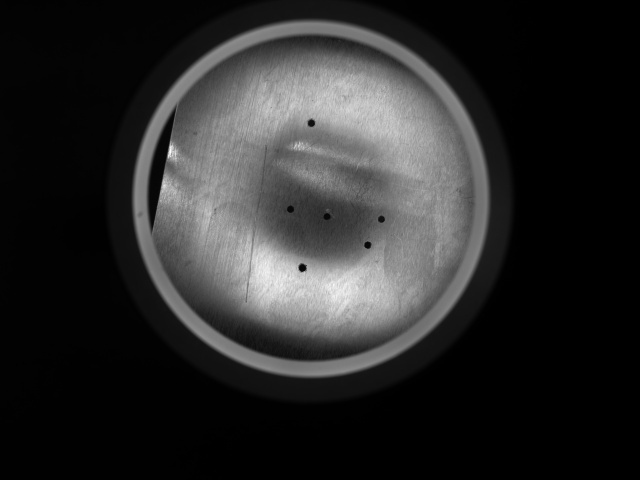ca_shang: (239, 139, 273, 306)
zhen_kong: (312, 196, 344, 234), (286, 255, 318, 285), (367, 204, 396, 235), (298, 109, 326, 139), (354, 230, 381, 261), (278, 194, 304, 225)
